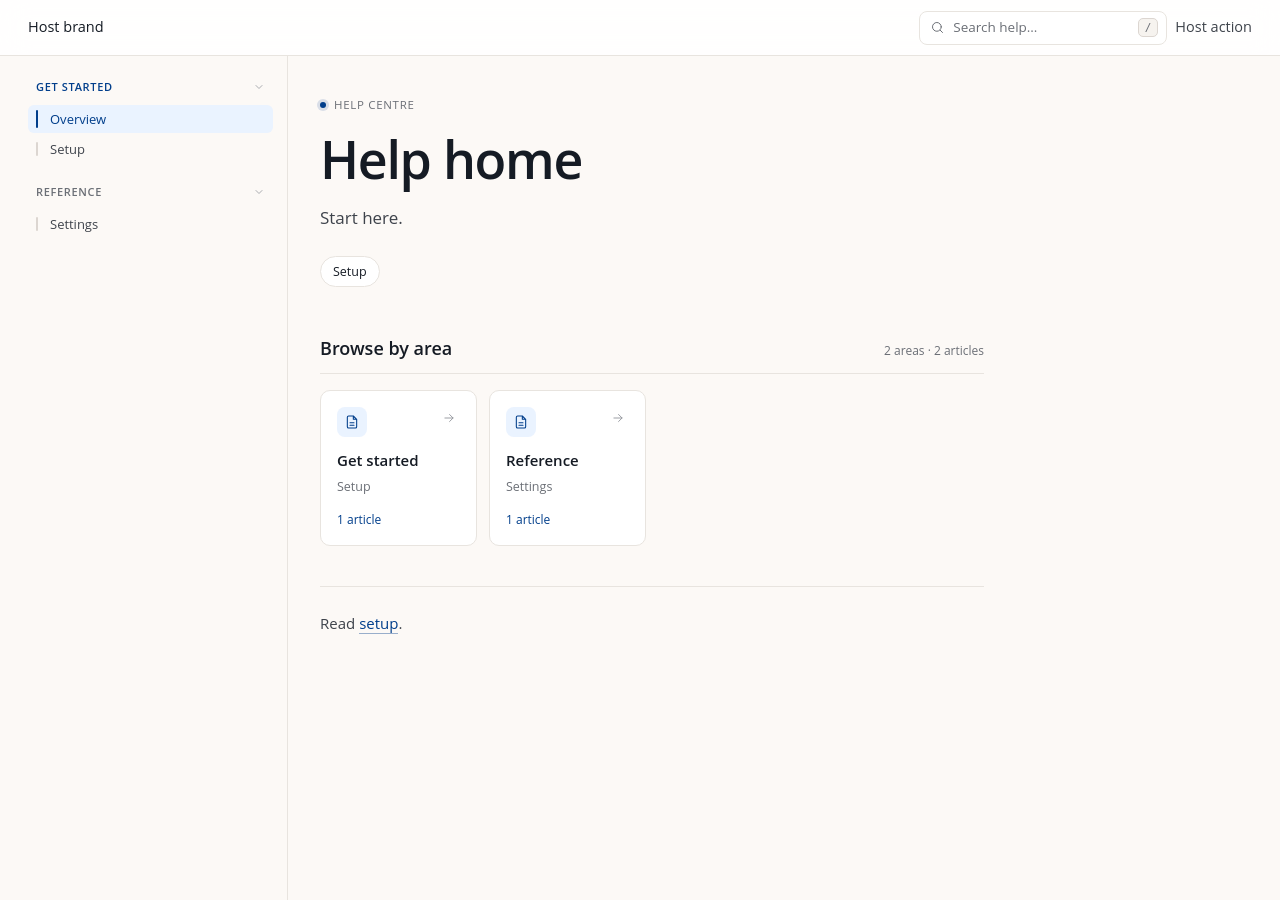
Scenario: HelpCenter › moves through the results with the arrow keys and opens the highlighted one on Enter
Type "set" into the search field named "Search help" at coordinates (1042, 27), box [953,17,1130,38]
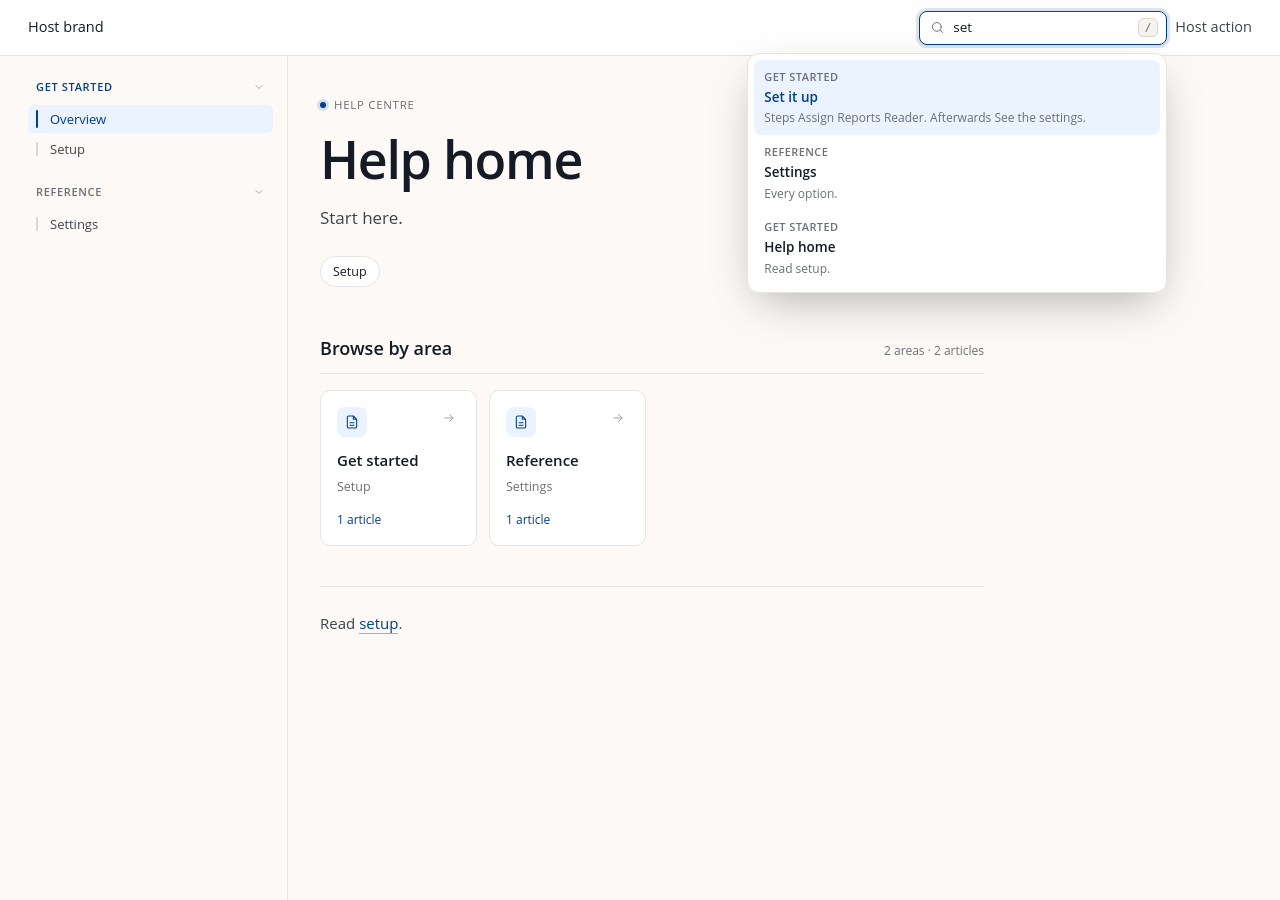
Press Arrowdown
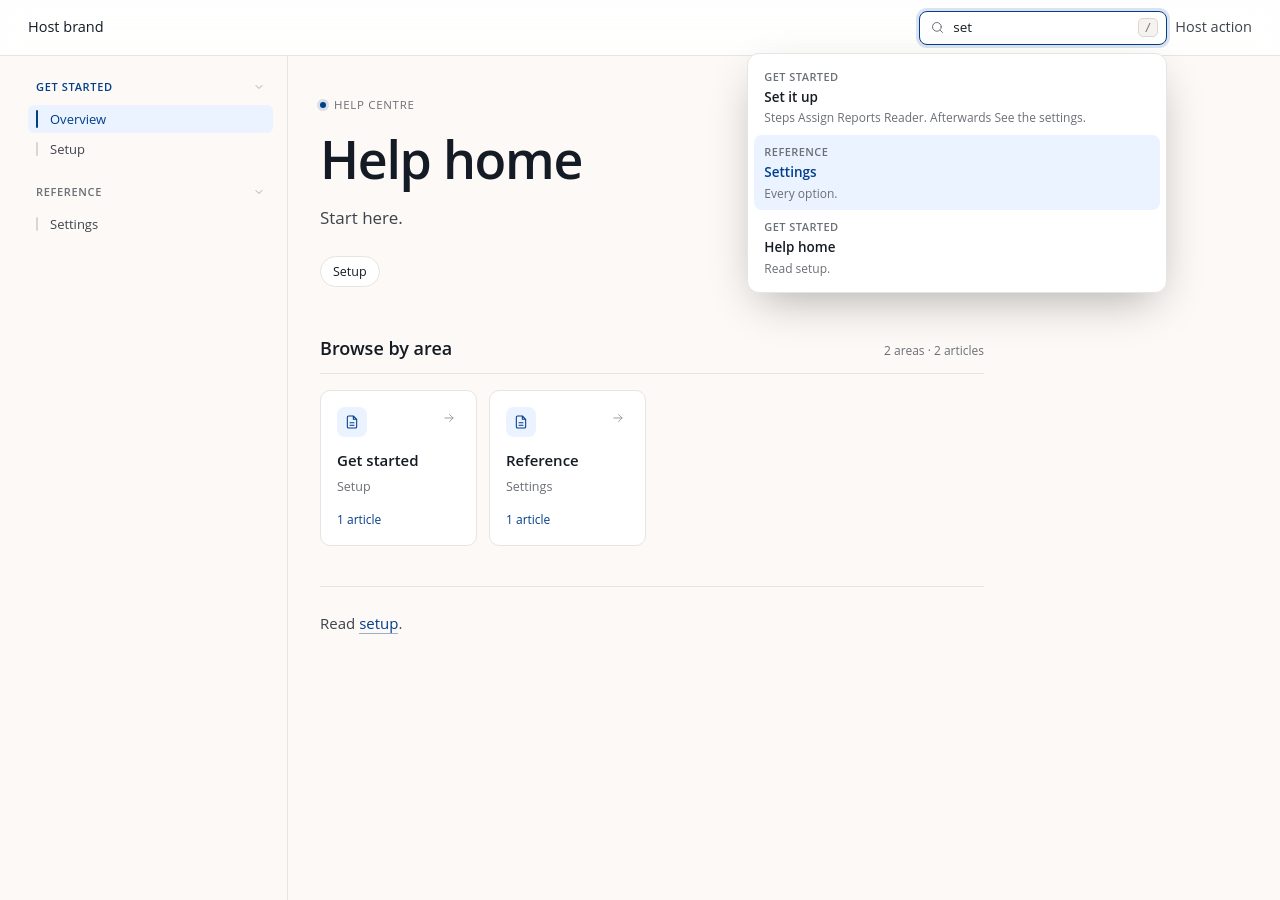
Press Enter
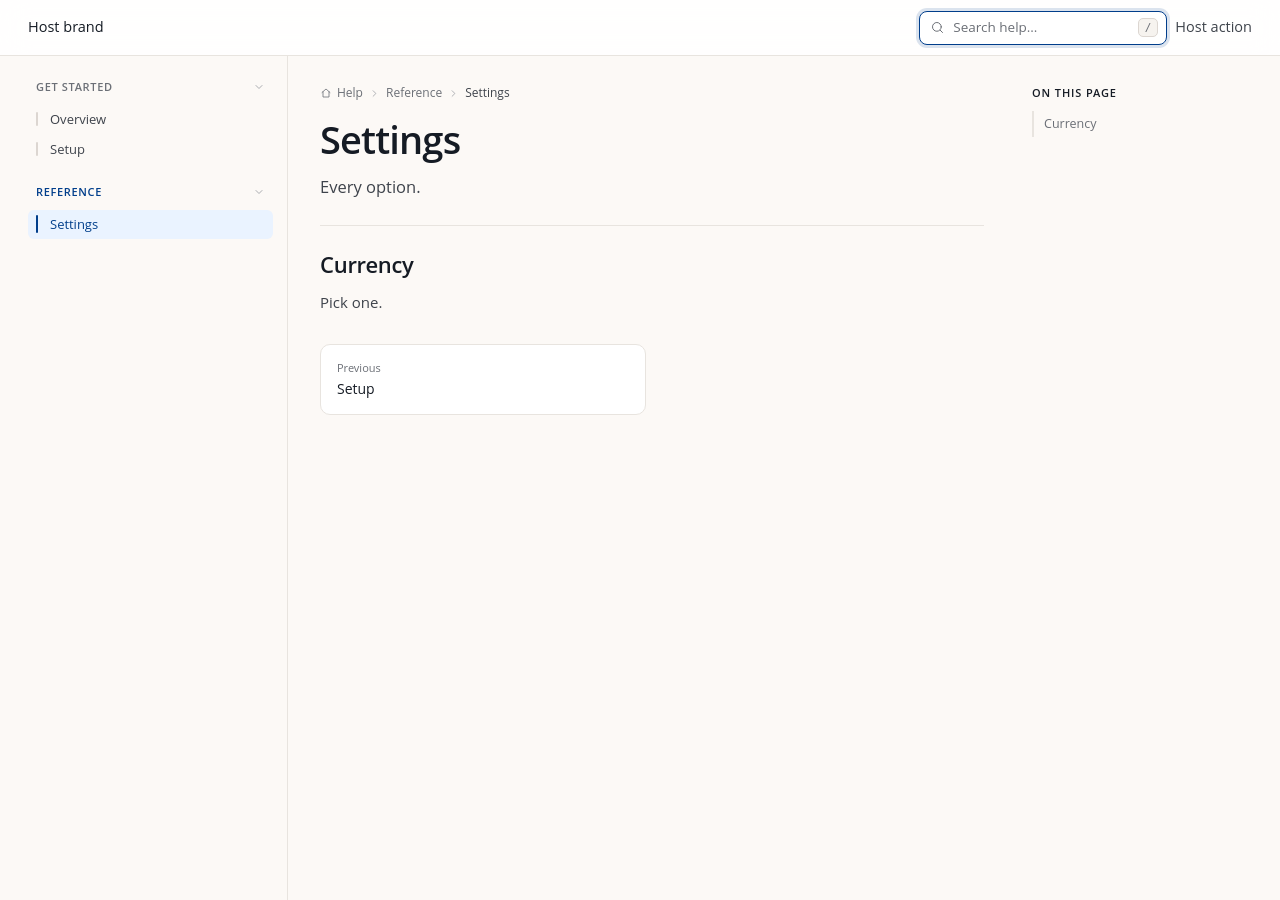
Check: the heading "Settings" is shown, box [320,113,460,165]
